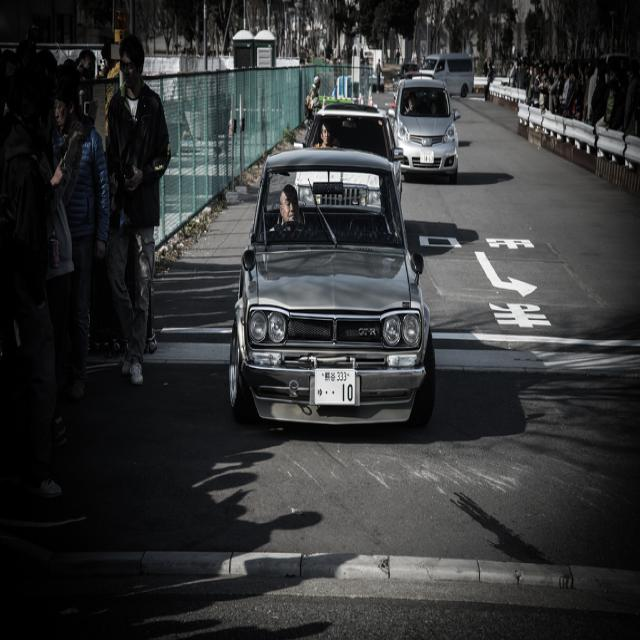car: (227, 126, 436, 429), (383, 74, 458, 180)
